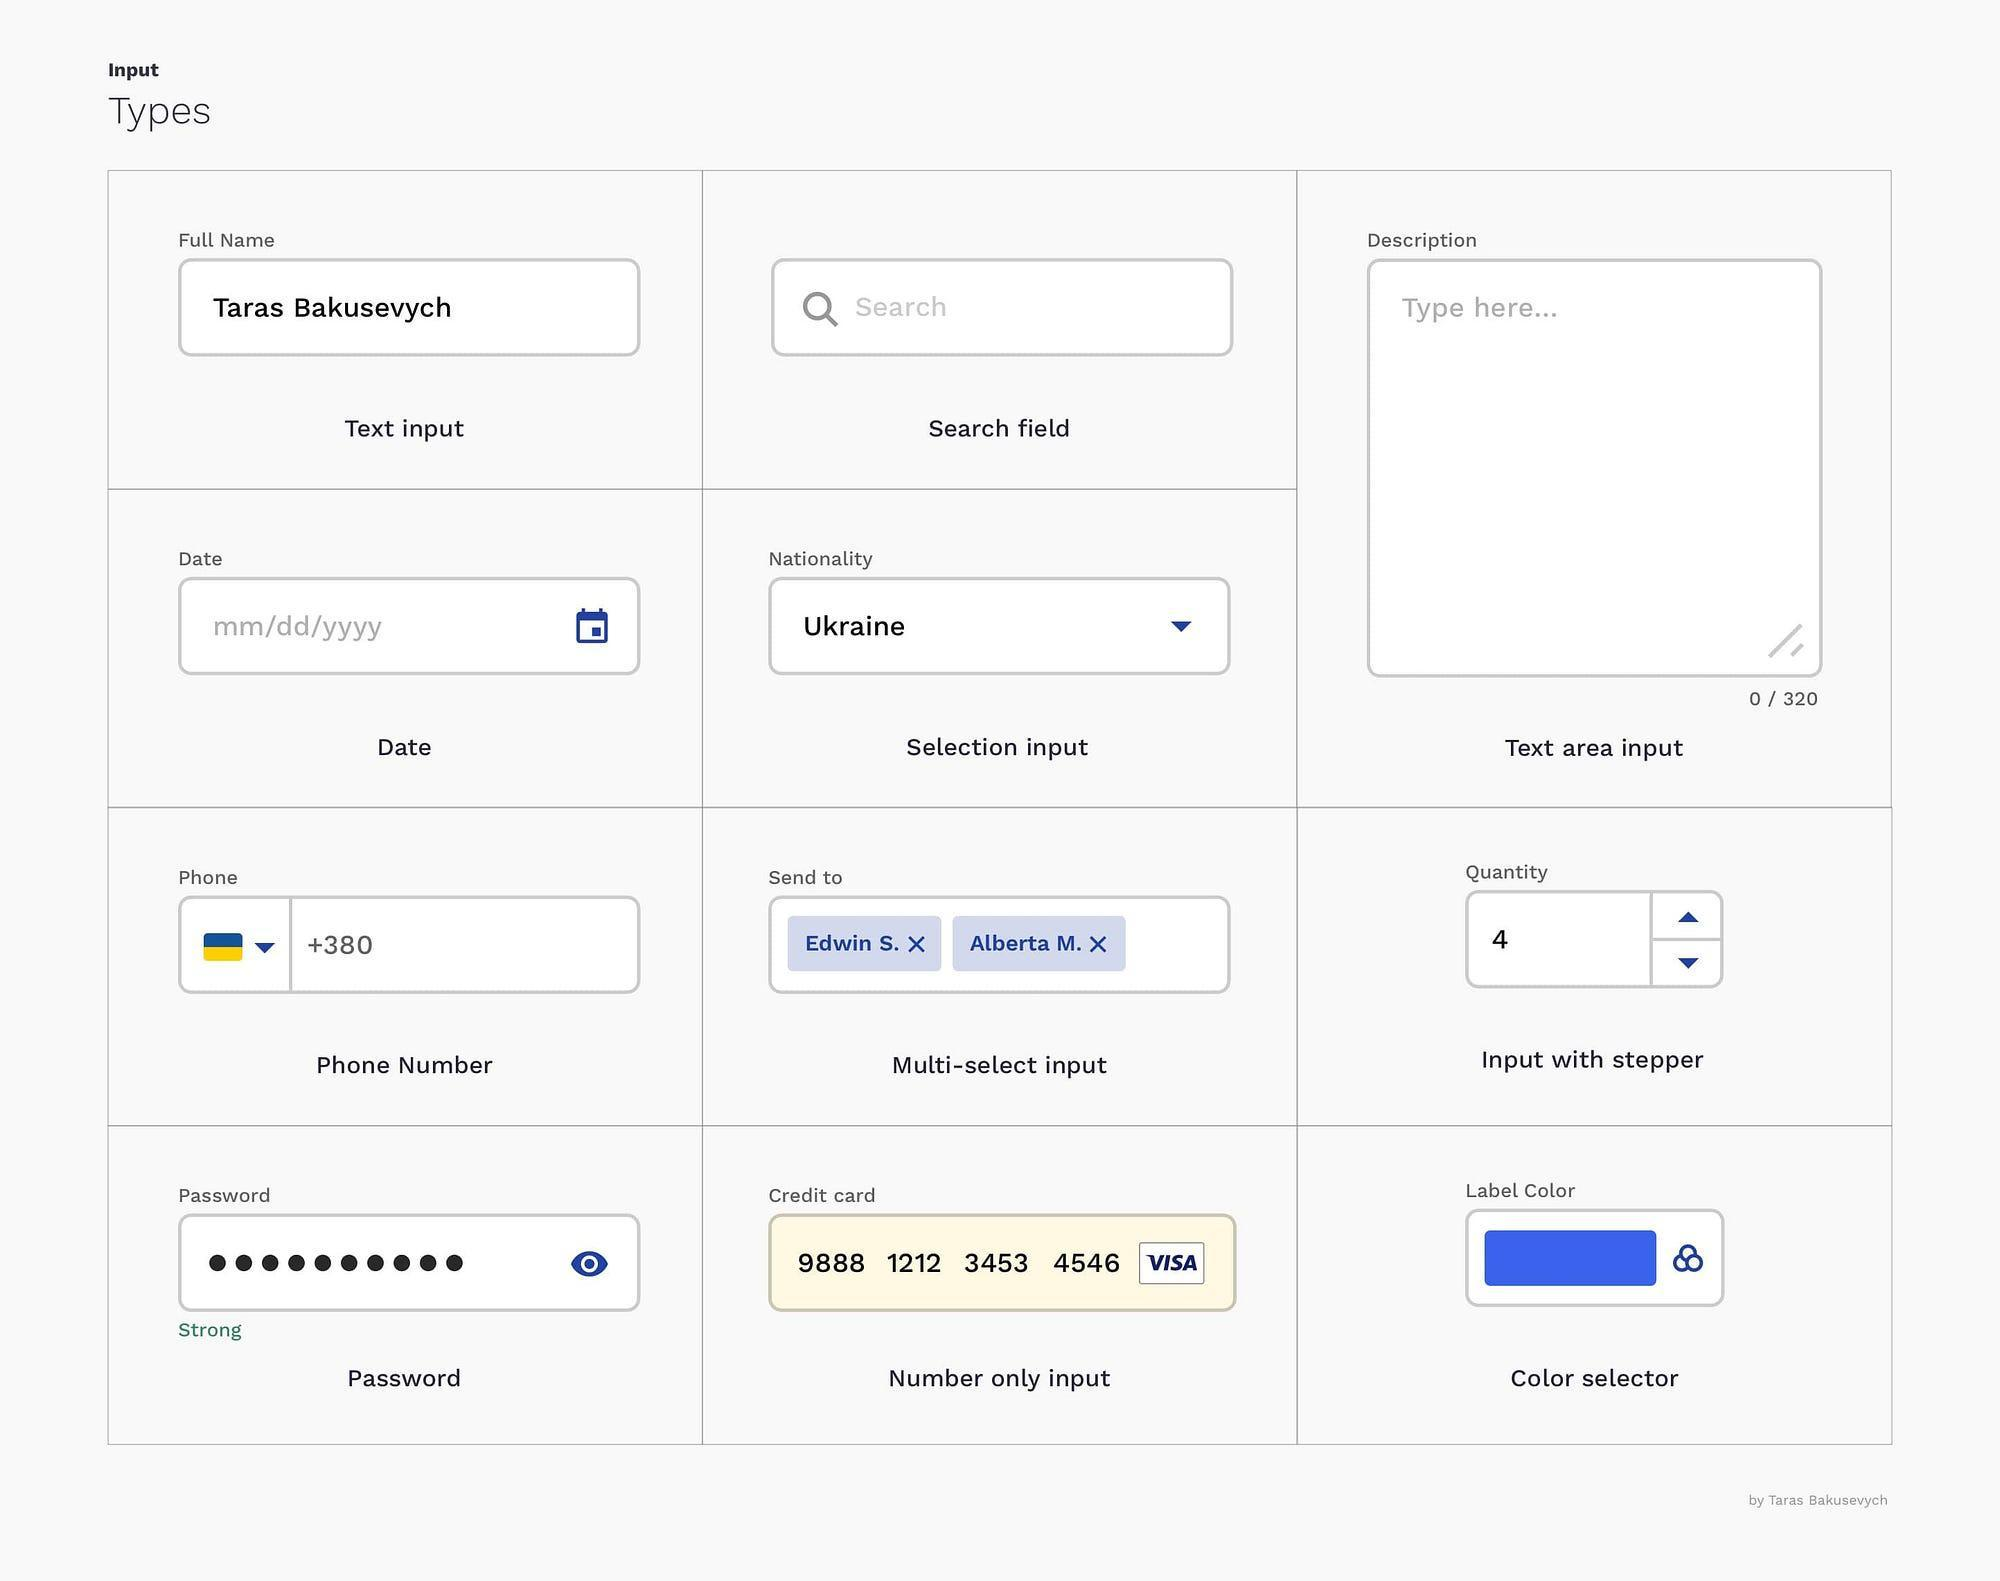button: (1468, 1209, 1726, 1307)
dropdown: (773, 579, 1234, 677), (180, 899, 292, 989)
icon: (567, 597, 623, 656), (792, 282, 841, 338), (567, 1235, 612, 1286), (1670, 1234, 1713, 1284)
input: (179, 1214, 644, 1313), (769, 1213, 1239, 1310), (773, 258, 1239, 355), (769, 896, 1234, 993), (183, 258, 638, 355), (185, 583, 641, 674), (292, 898, 640, 993), (1469, 893, 1724, 987)
label: (104, 88, 231, 144), (766, 1180, 903, 1211), (170, 1180, 281, 1213), (166, 227, 292, 253), (1370, 227, 1497, 253), (1463, 1177, 1588, 1201), (766, 860, 859, 891), (1459, 857, 1558, 885), (766, 554, 890, 573), (172, 860, 247, 891), (175, 545, 247, 575)
